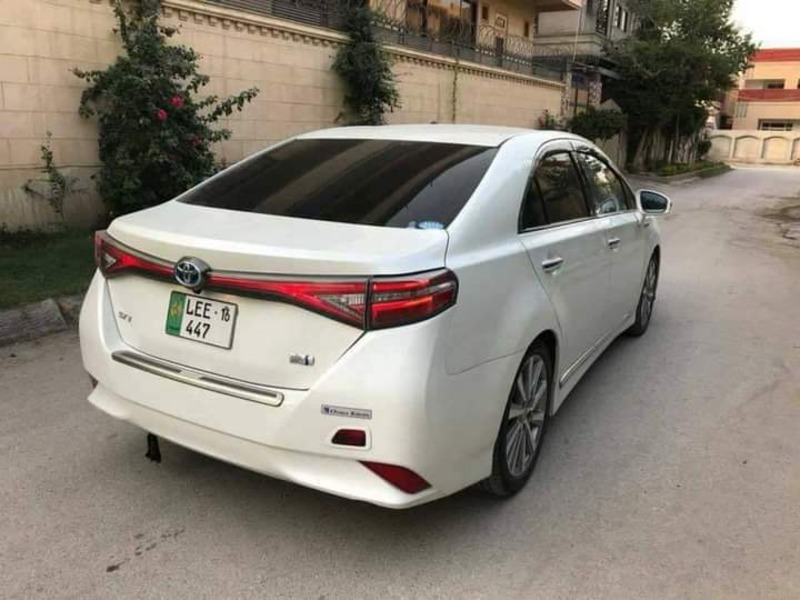License Plate: (158, 287, 240, 350)
